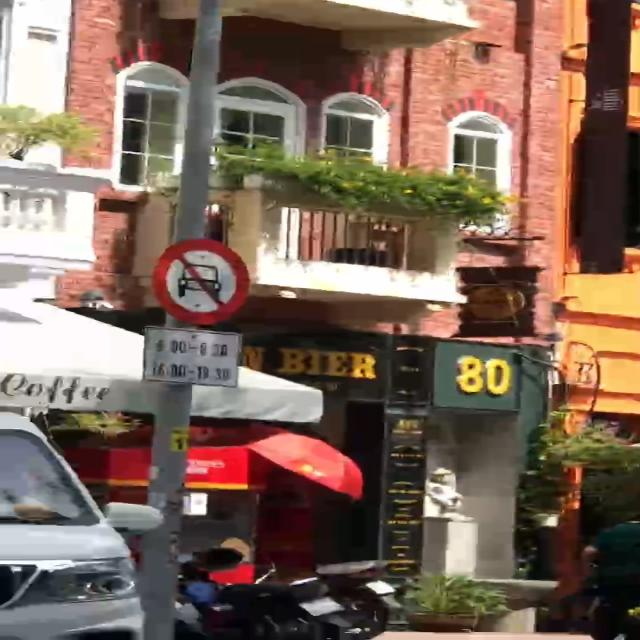Bien bao cam xe oto: (151, 238, 256, 328)
